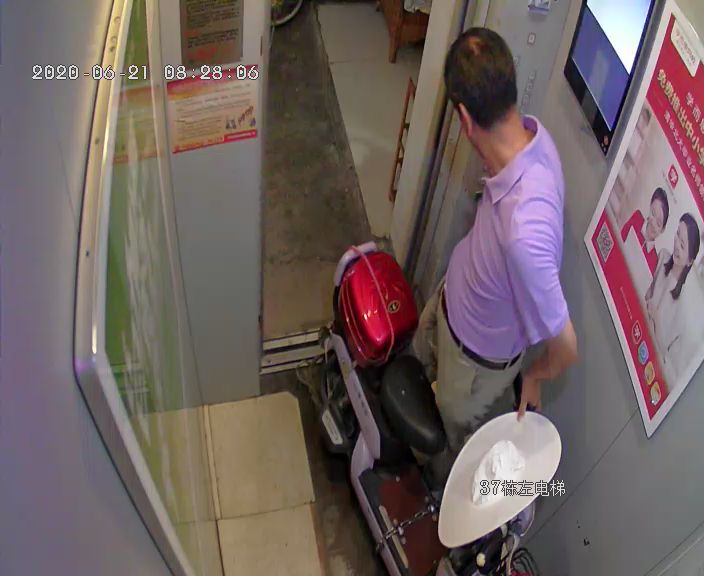Electric-bicycle: (312, 244, 536, 576)
